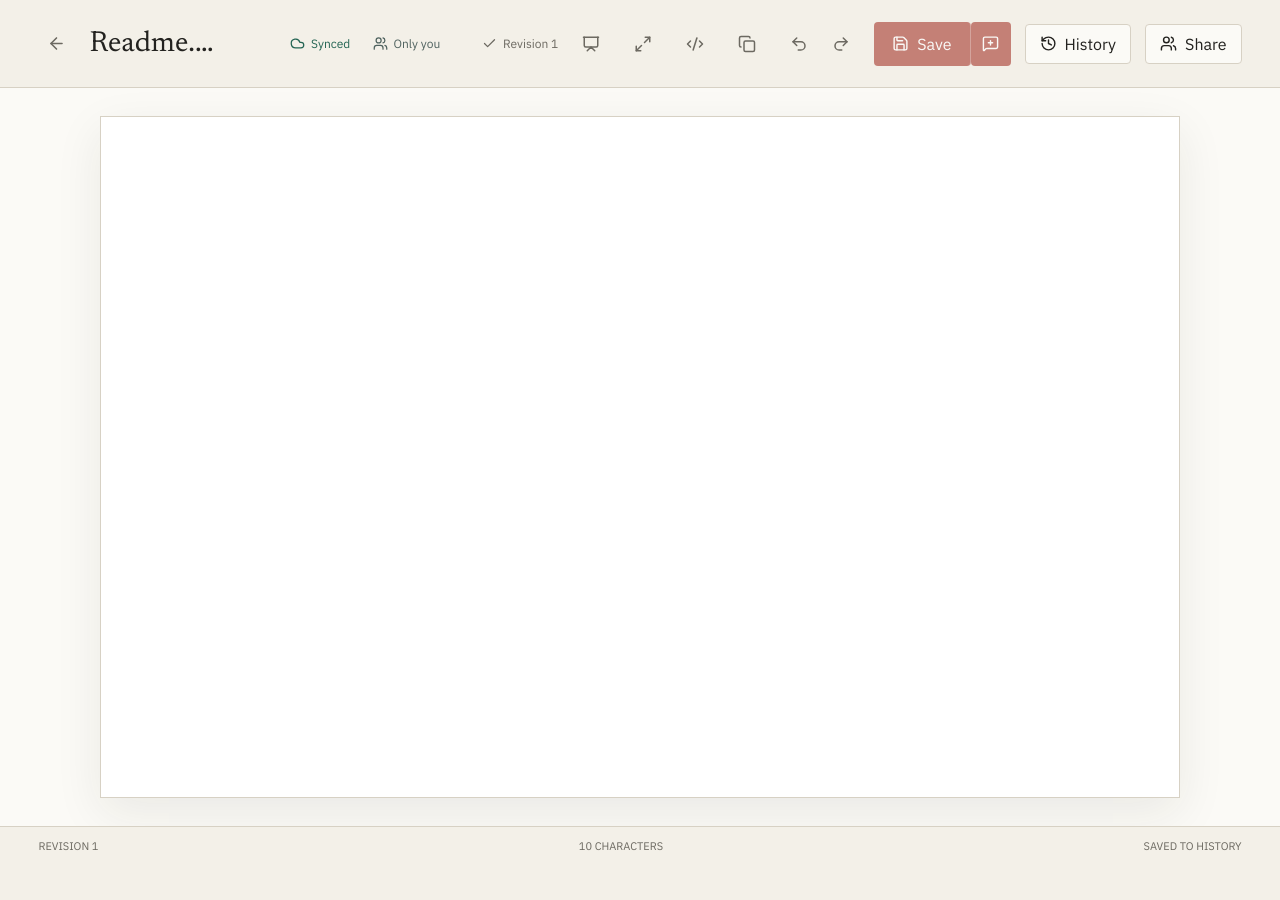
Test: DocumentEditor › enters and exits full screen without recreating the editor
Check: the heading "Readme.md" is shown, box [90,29,230,61]
Click the button named "Enter full screen" at (643, 44), box [624,24,662,62]
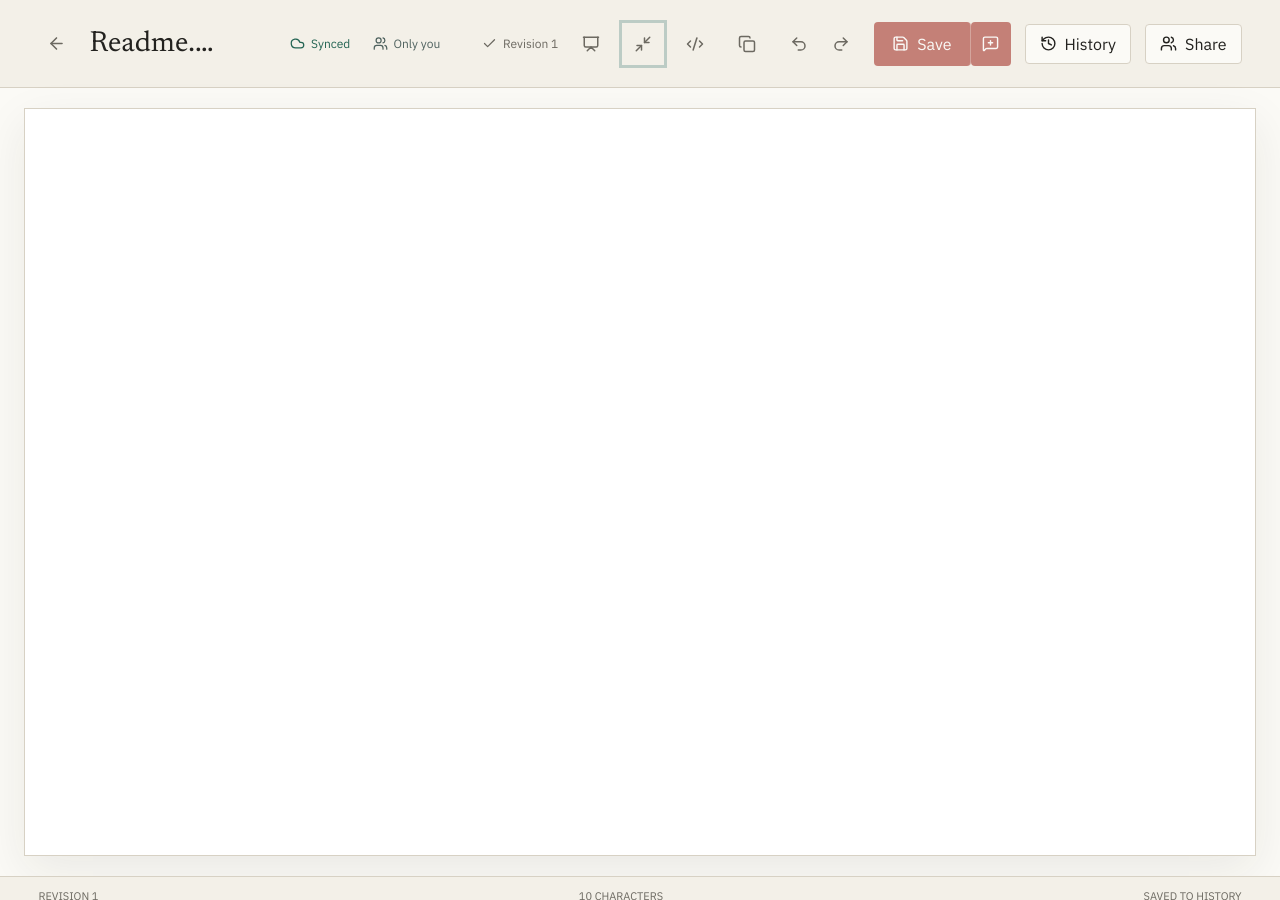
Check: the element with class "full-screen" is shown
Press Escape
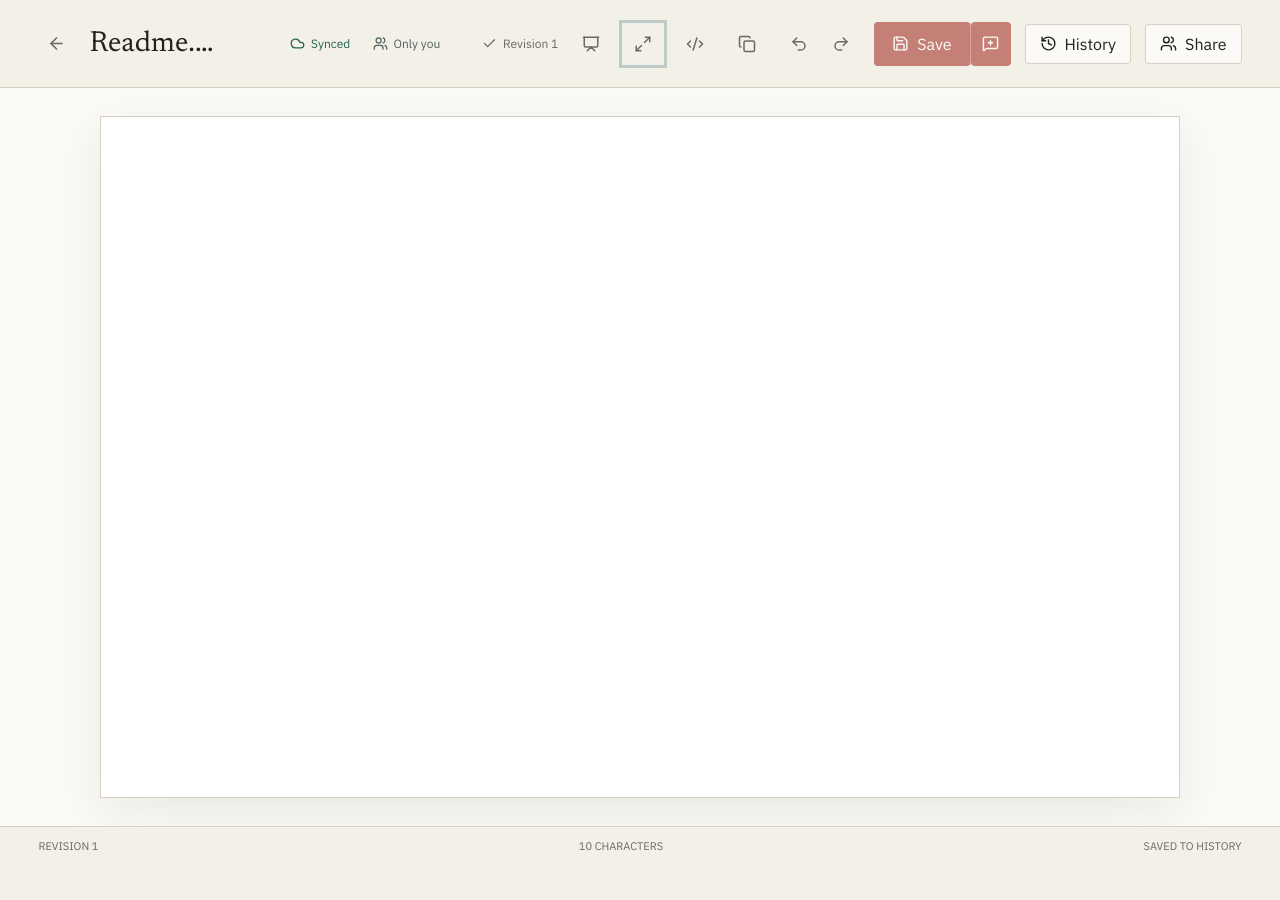
Check: the button named "Enter full screen" is shown, box [624,24,662,62]
